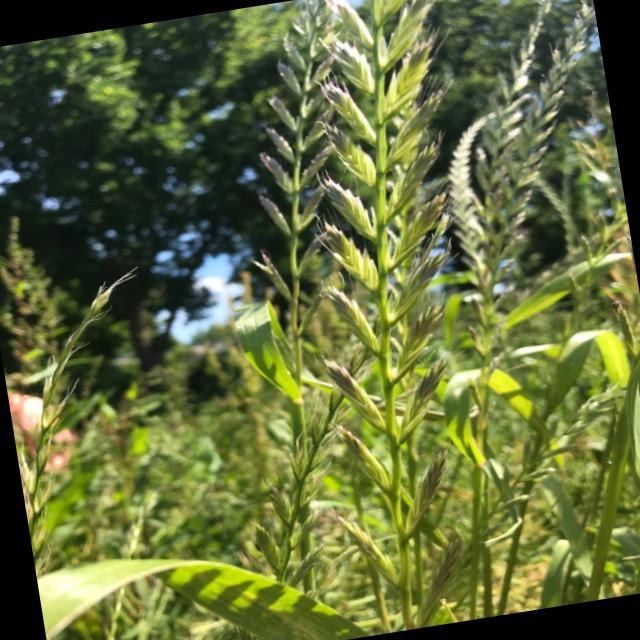Lolium: (287, 0, 552, 630), (183, 0, 432, 602), (455, 5, 626, 270), (0, 272, 167, 532), (459, 0, 605, 161)
